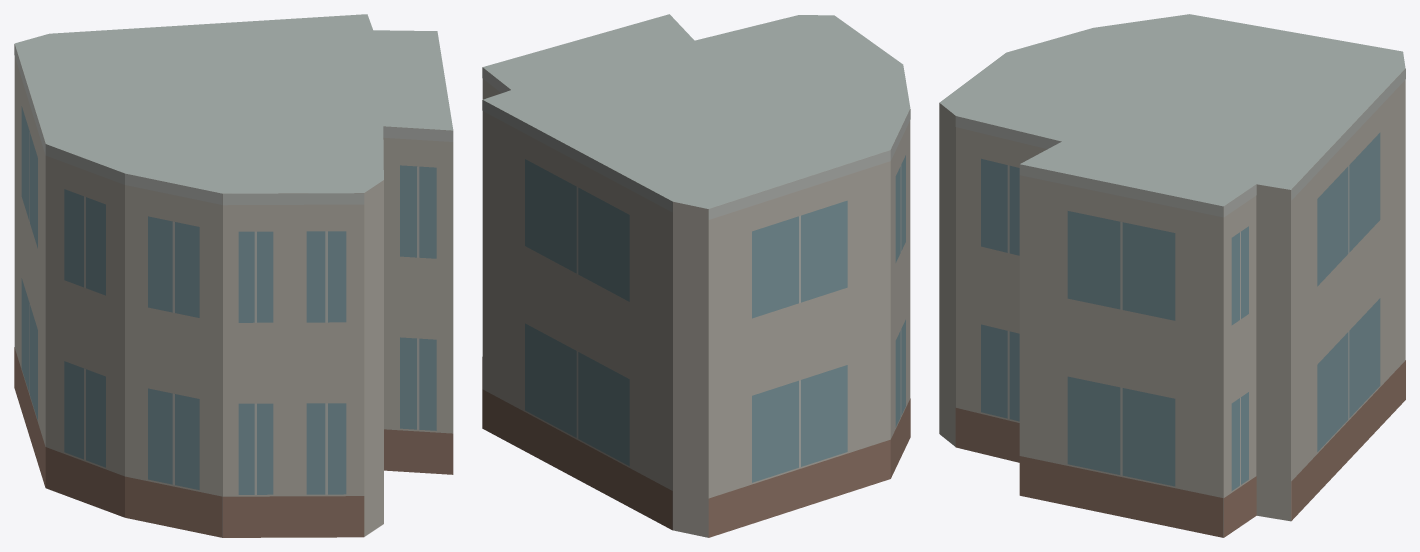
File: survey-upis-32487041.glb
3 views of the same model, side by side, from view 1: azimuth 30°, elevation 25°; view 2: azimuth 150°, elevation 25°; view 3: azimuth 270°, elevation 25° (orthographic). The views are drawn at different scales.
Visible parts, largest first — view 1: survey-upis-32487041.tmp; view 2: survey-upis-32487041.tmp; view 3: survey-upis-32487041.tmp.
Part boxes in pixels (left/top/right/bottom): survey-upis-32487041.tmp: left=14, top=14, right=453, bottom=537; survey-upis-32487041.tmp: left=482, top=14, right=910, bottom=537; survey-upis-32487041.tmp: left=939, top=14, right=1405, bottom=537.
Bounding box in the file's own units: 9.1 × 7.3 × 9.32.
